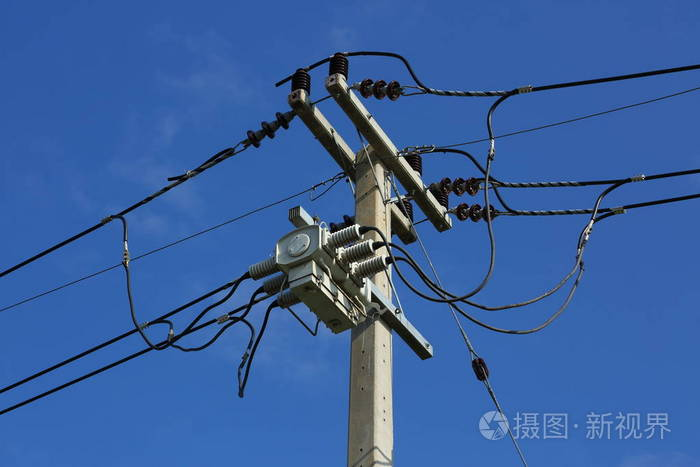insulator: (248, 112, 289, 150), (360, 78, 398, 104), (454, 201, 497, 223), (439, 174, 480, 196)
